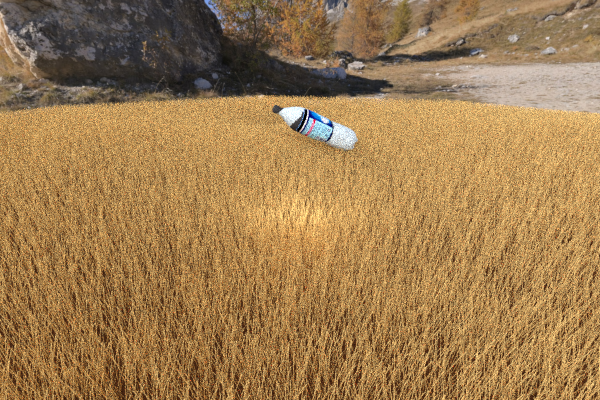bottle: (272, 104, 357, 151)
can: (468, 115, 502, 142)
